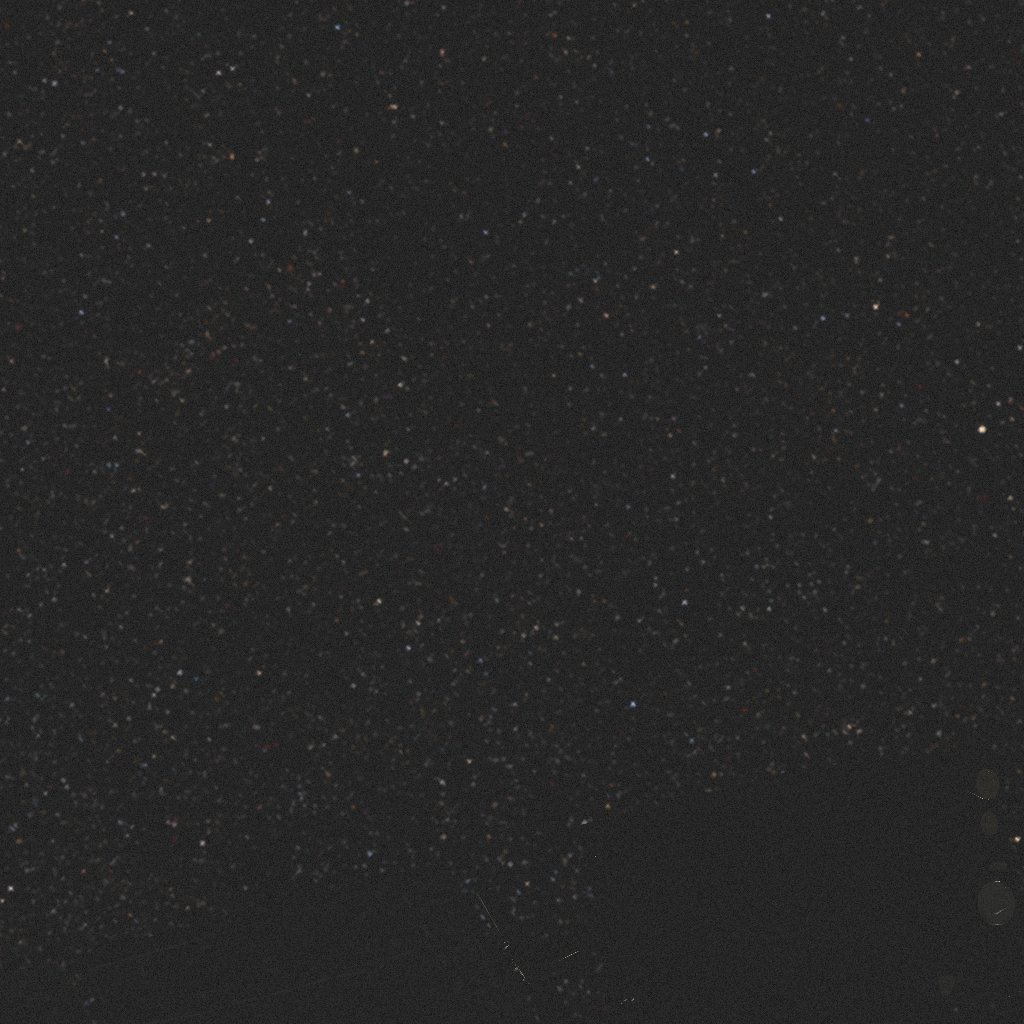smart_1: (0, 711, 1024, 1024)
